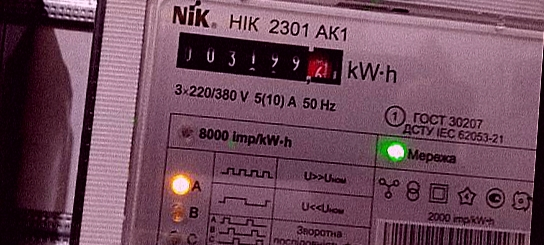0: (180, 41, 193, 63), (203, 43, 216, 64)
1: (247, 46, 258, 66)
3: (225, 48, 237, 67)
6: (313, 63, 324, 79)
9: (268, 49, 280, 69), (289, 52, 301, 72)
screen: (168, 27, 353, 93)
